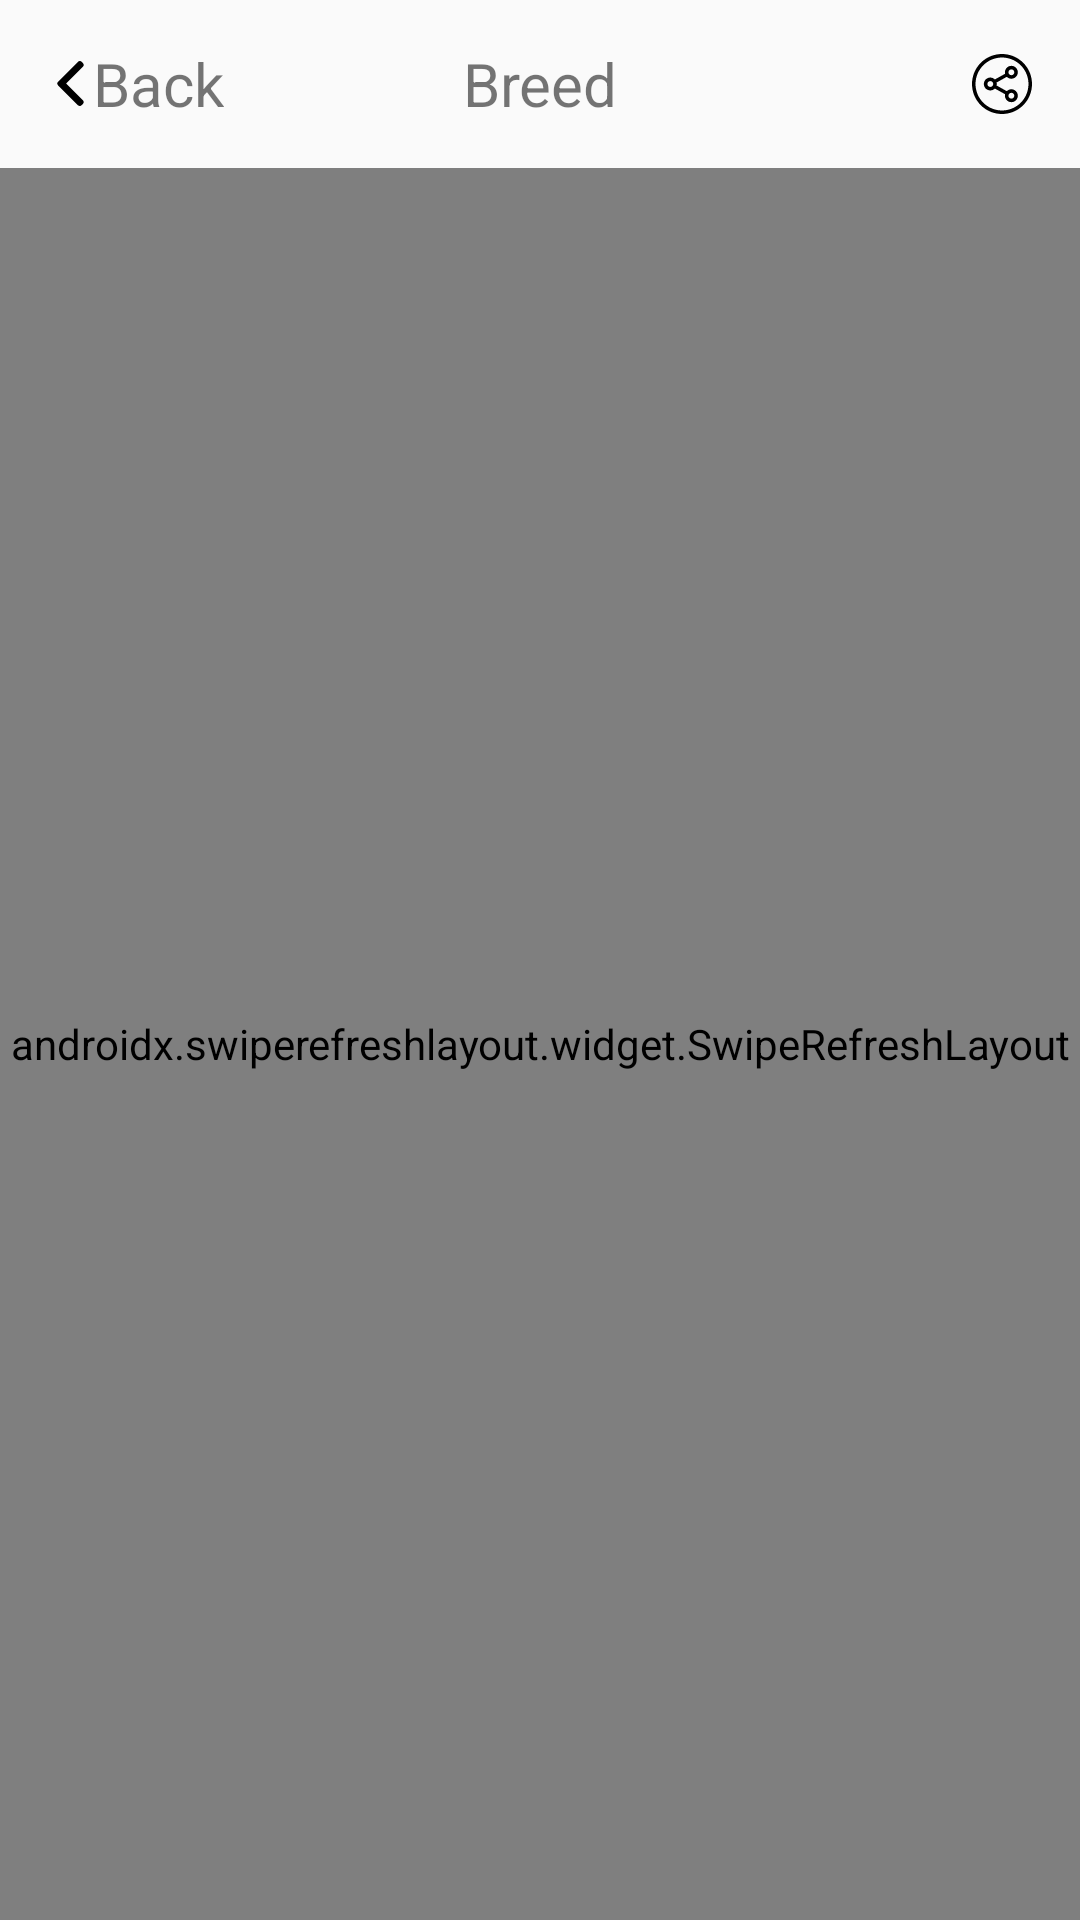

Locate icon controls on the screen. Image size 1080×1920, boxes as (x1, y1, x2, y2).
left arrow: (57, 61, 84, 106)
share: (972, 54, 1032, 114)
